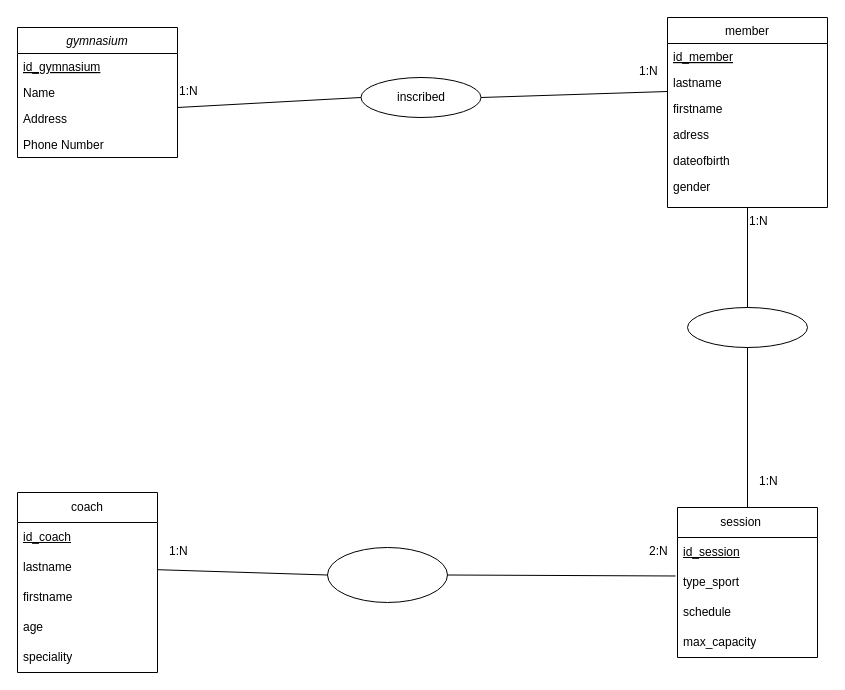
This 845x690 diagram has some shape labels left out. The box of each missing label's shape, as (x1, y1, x2, y2) in pixels:
attends: (686, 306, 808, 348)
leads: (326, 546, 448, 602)
